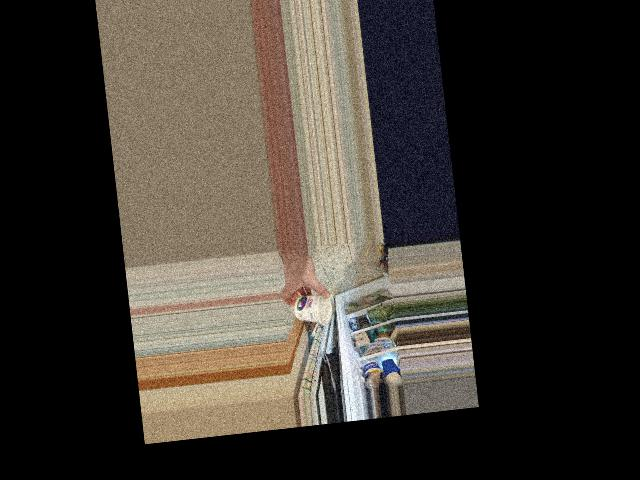cotage: (293, 289, 333, 327)
